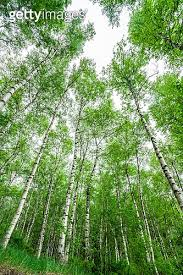forest: (4, 6, 183, 273)
